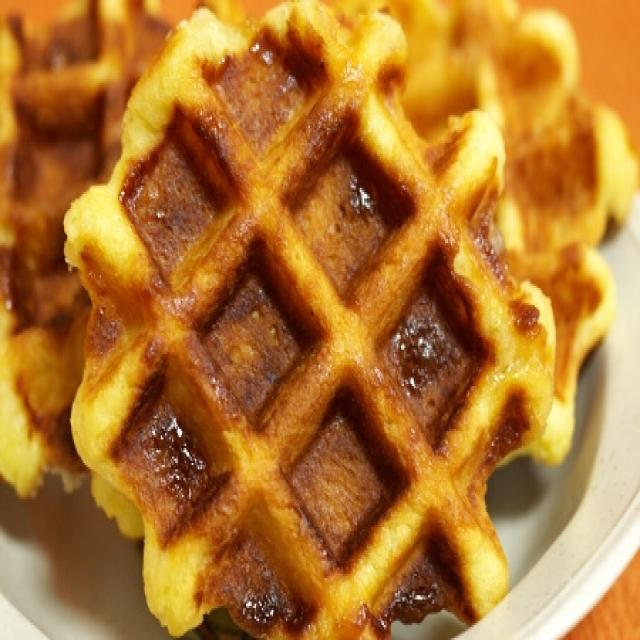炸货点心: (13, 17, 626, 623)
蛋糕甜品: (13, 17, 626, 623)
